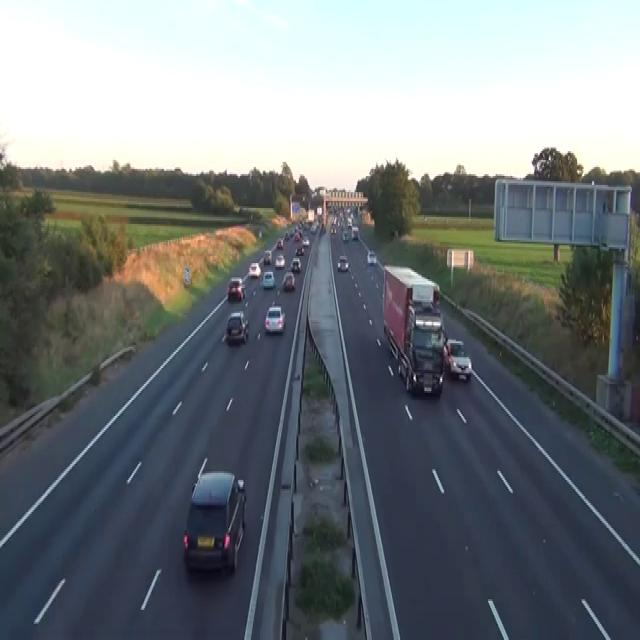Car: (182, 468, 246, 574), (444, 338, 472, 380), (225, 311, 249, 343), (264, 304, 285, 332), (227, 278, 245, 300), (262, 270, 275, 288), (282, 272, 295, 290), (336, 254, 348, 272), (248, 262, 261, 278), (274, 252, 285, 268), (290, 256, 301, 272), (366, 249, 376, 265), (263, 249, 271, 263), (295, 245, 304, 256), (351, 226, 358, 240), (276, 236, 283, 249), (342, 231, 349, 242), (293, 231, 300, 242), (233, 203, 240, 213), (258, 256, 264, 267), (302, 237, 309, 246), (310, 224, 316, 233), (330, 226, 336, 234), (321, 224, 326, 233), (347, 217, 352, 226), (284, 231, 289, 240), (258, 230, 262, 238)
Truck: (382, 263, 446, 397)
